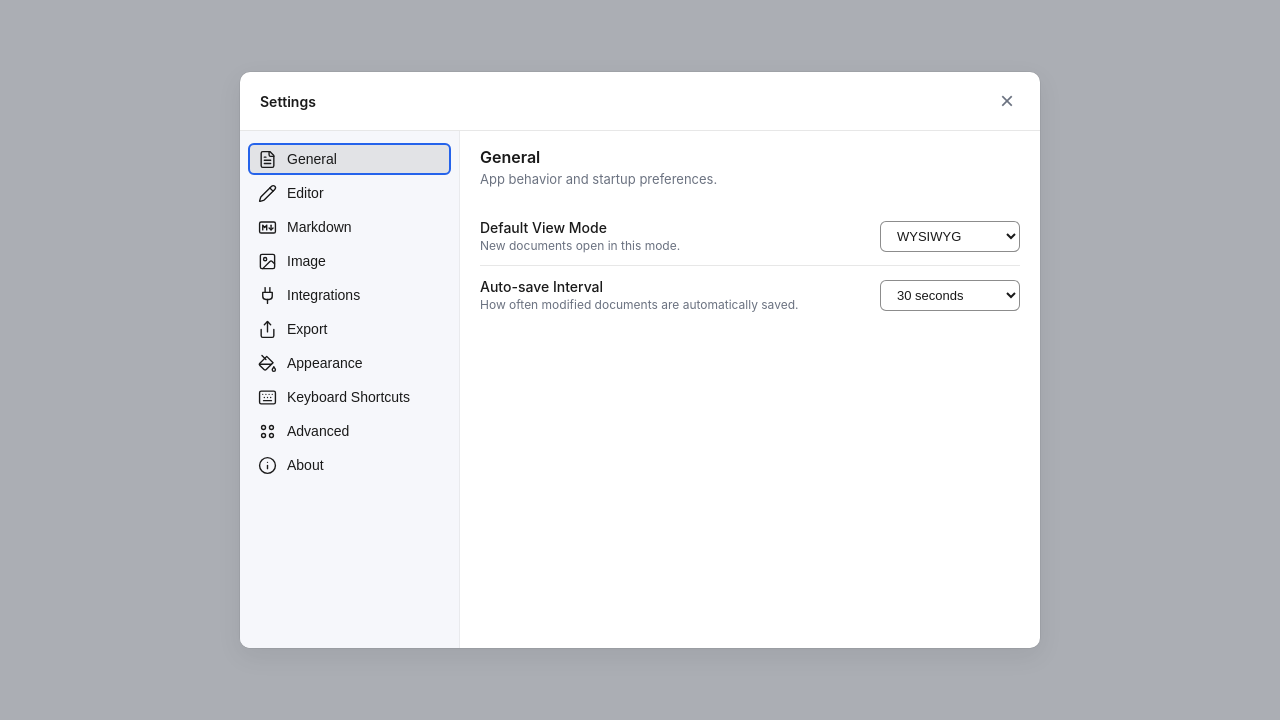
Test: WI-6 McpServerStatus › UI-07 disabled + unreadable does not claim MCP is running
Click the button "Integrations": [350, 295] box [248,279,451,311]
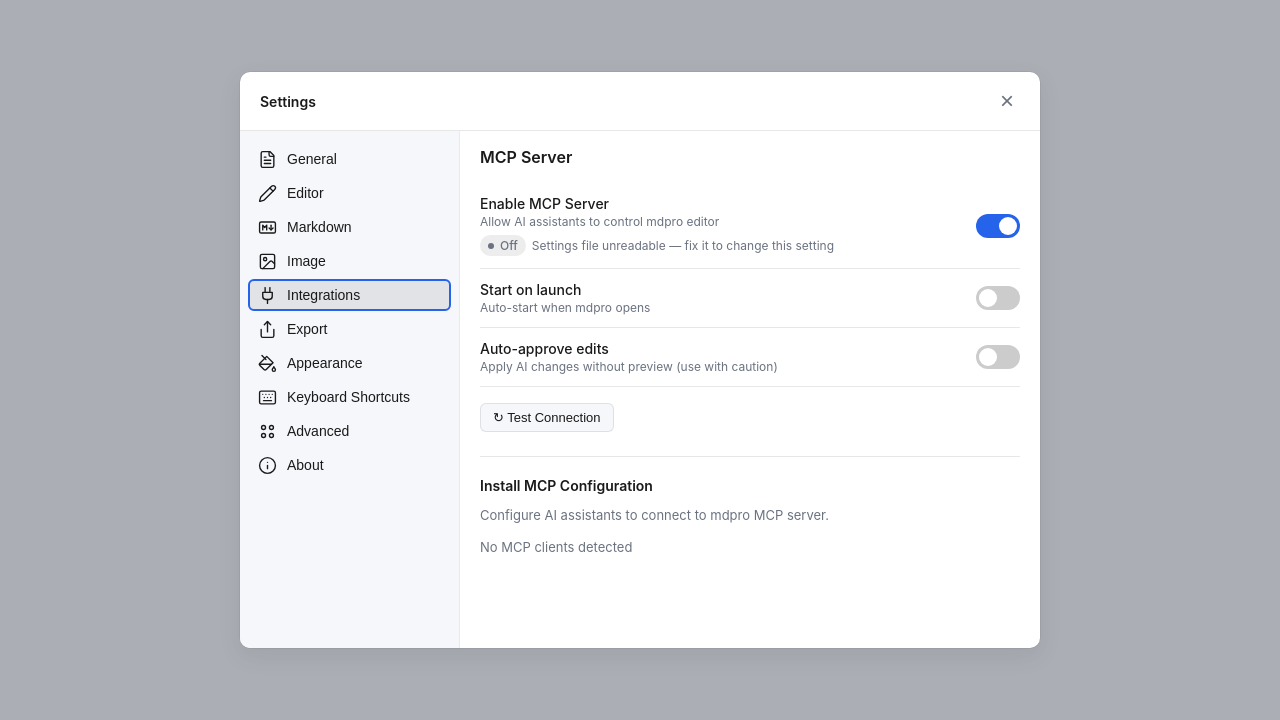
Expected: the switch labelled "Enable MCP Server" is shown, [976,214,1020,238]
Expected: the message shows "Off", [500,238,518,253]
Expected: the message shows "unreadable", [532,238,834,253]
